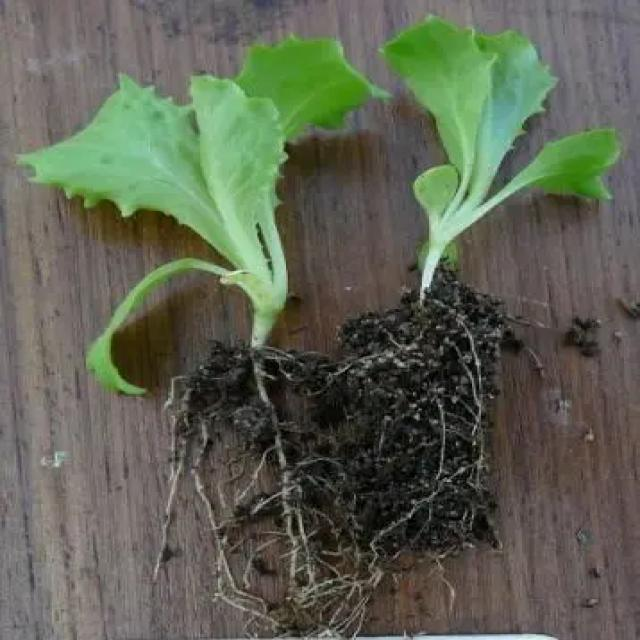verde: (18, 37, 386, 392), (381, 15, 619, 297)
